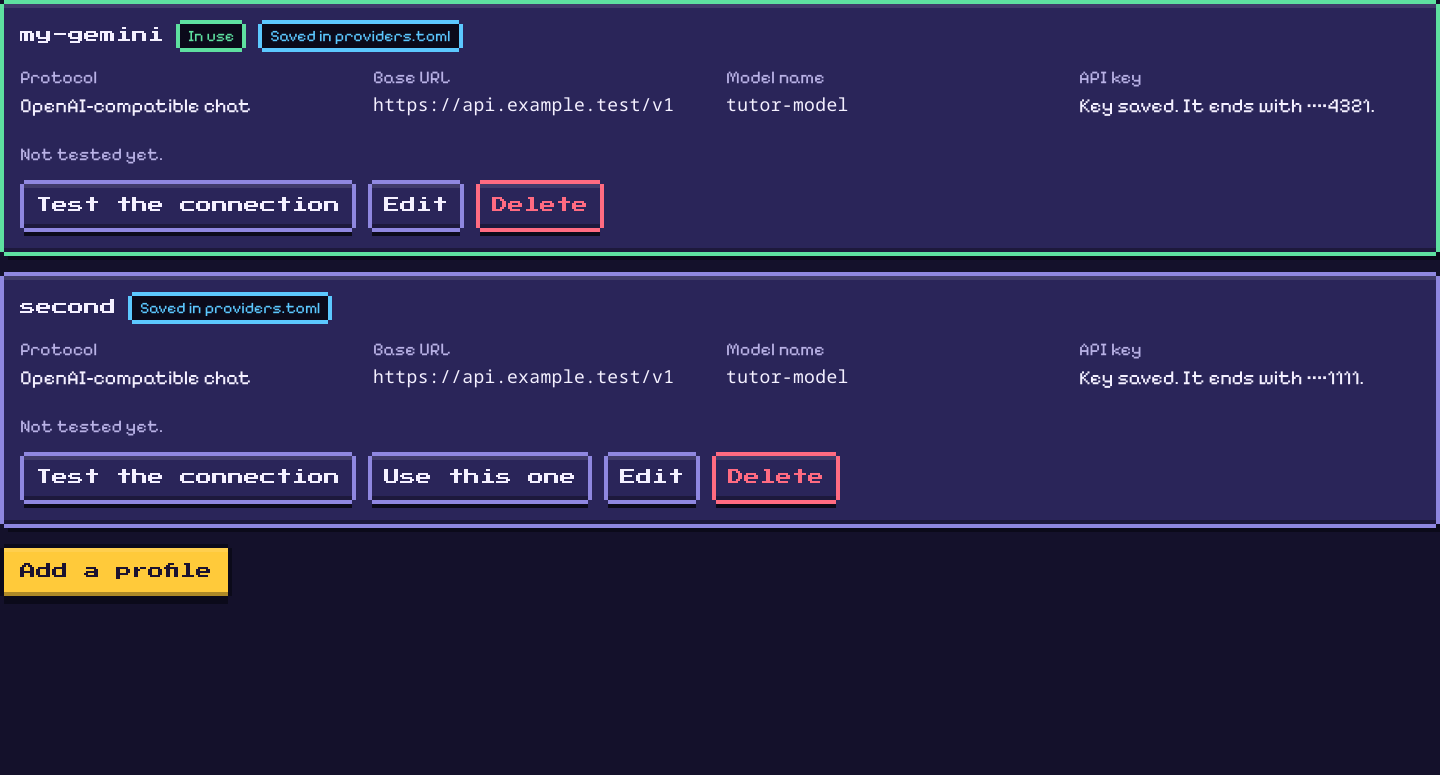
Scenario: ProviderManager › asks before deleting, and deletes only after the learner agrees
Step 1. Click the button "Delete" below "In use" → (540, 206), box [480,184,600,228]
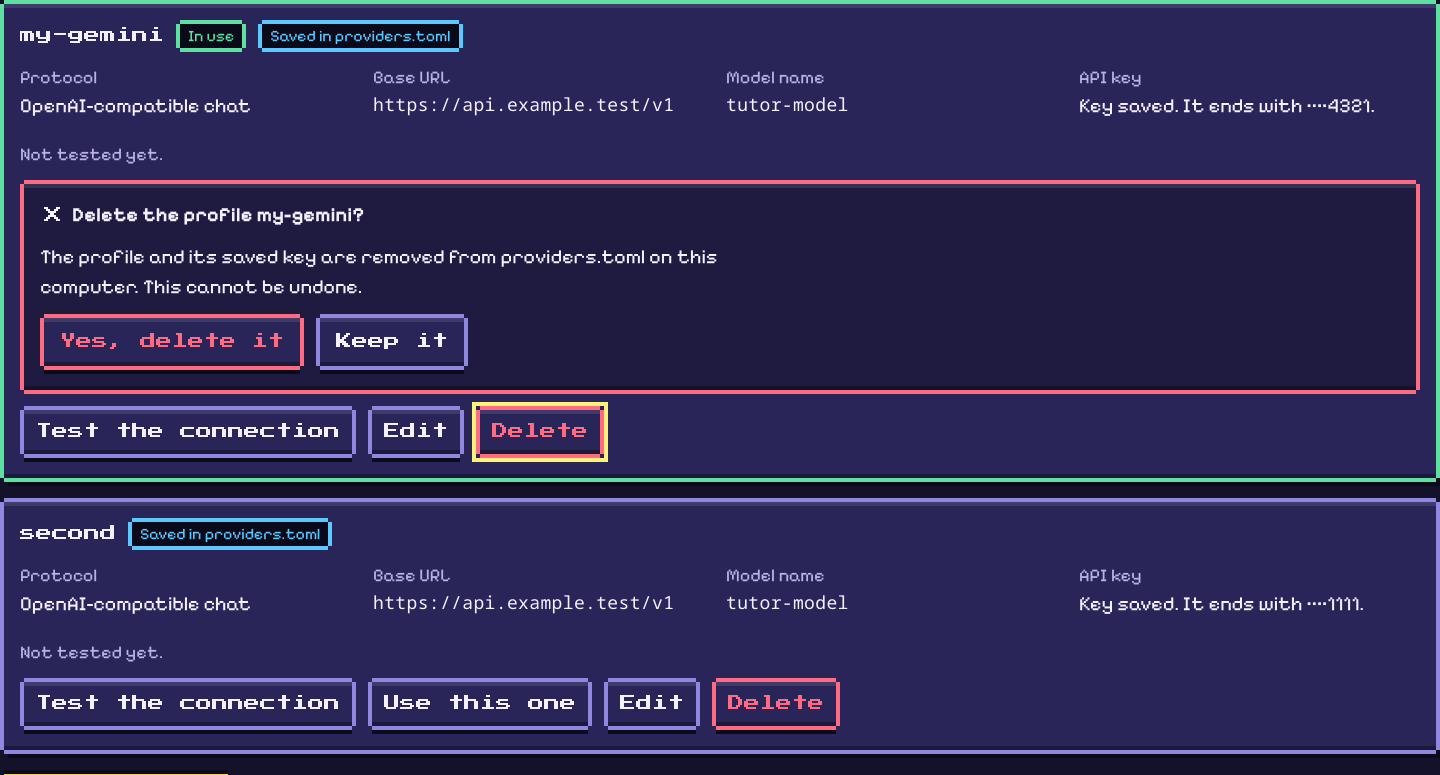
Expected: the text "Delete the profile my-gemini?" is shown, [72,200,364,230]
Step 2. Click the button "Keep it" → (392, 342), box [320,318,464,366]
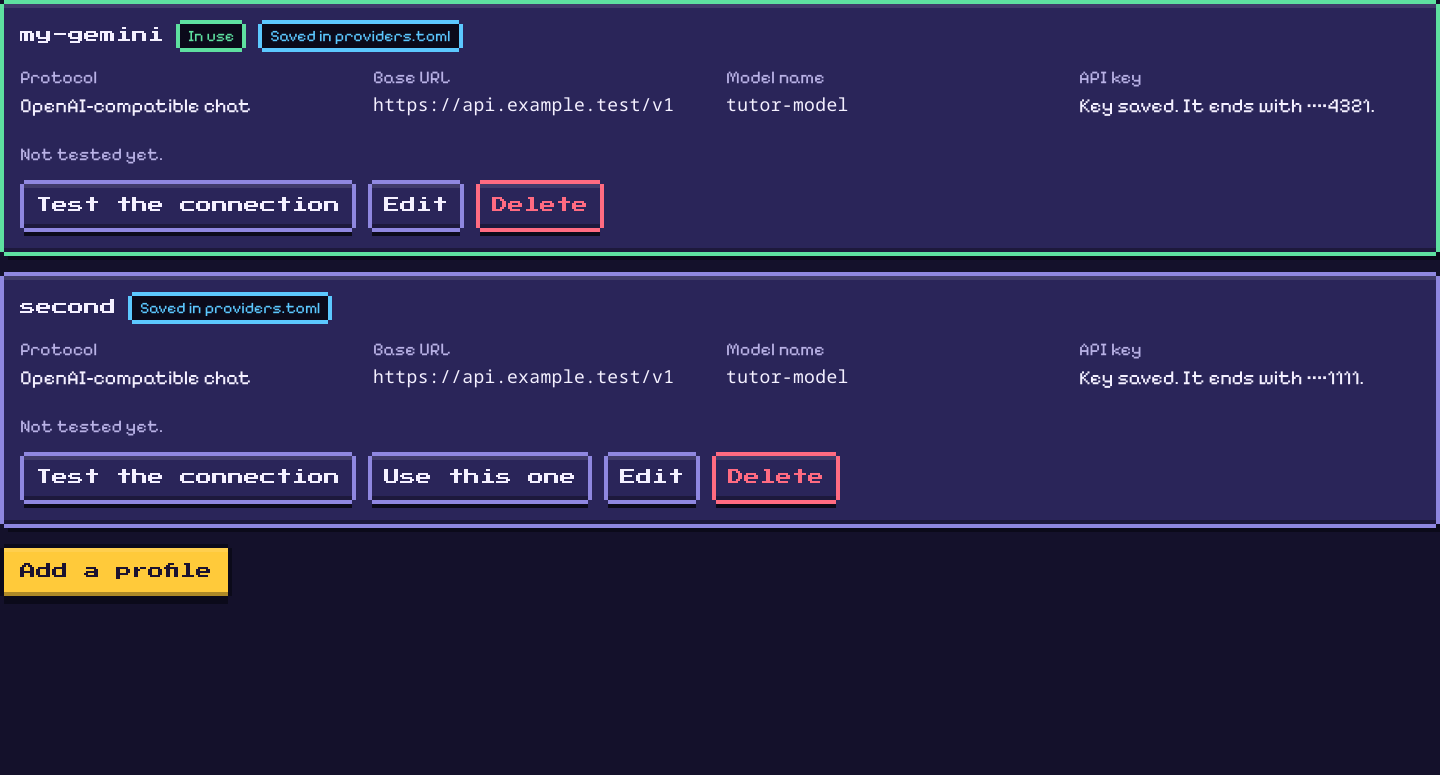
Expected: the text "Delete the profile my-gemini?" is gone
Step 3. Click the button "Delete" below "In use" → (540, 206), box [480,184,600,228]
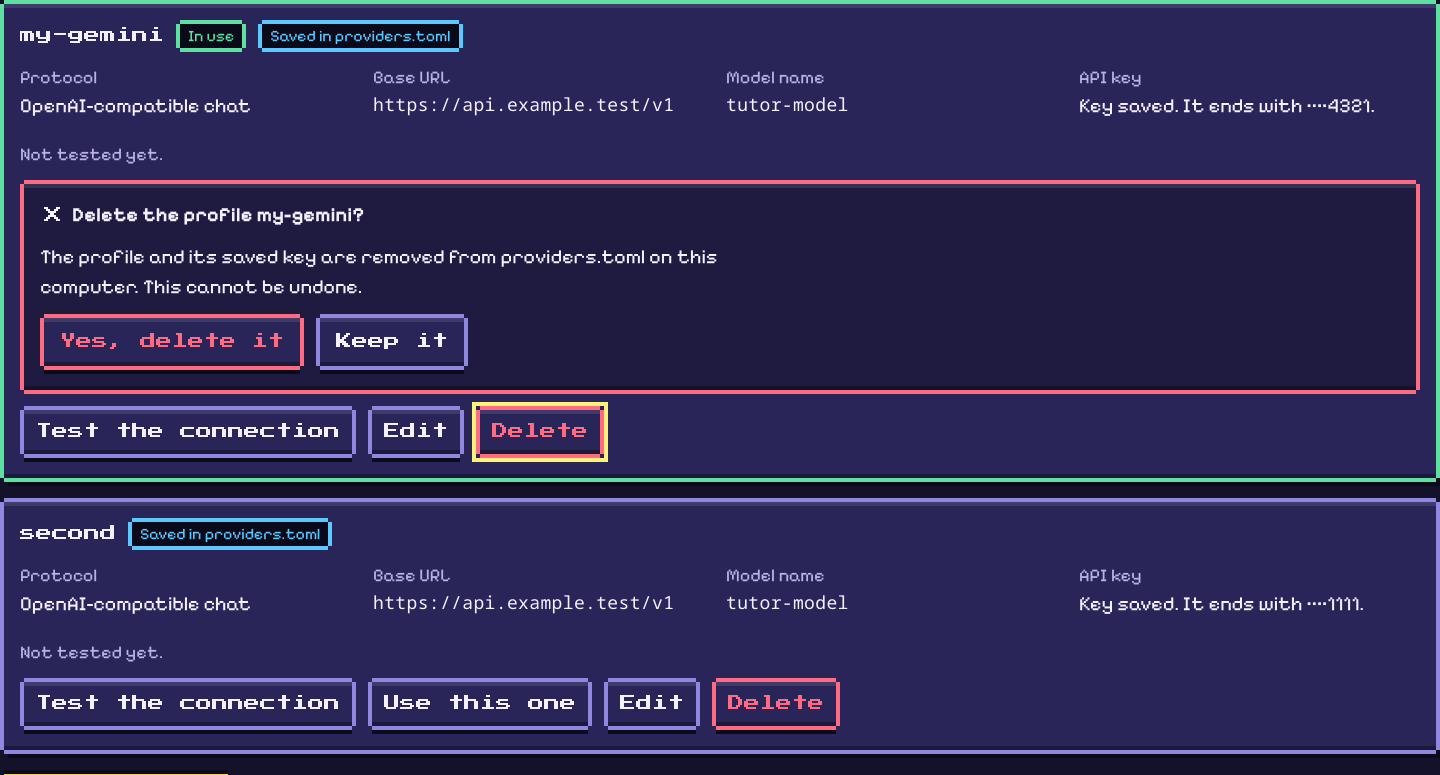
Step 4. Click the button "Yes, delete it" → (172, 342), box [44,318,300,366]
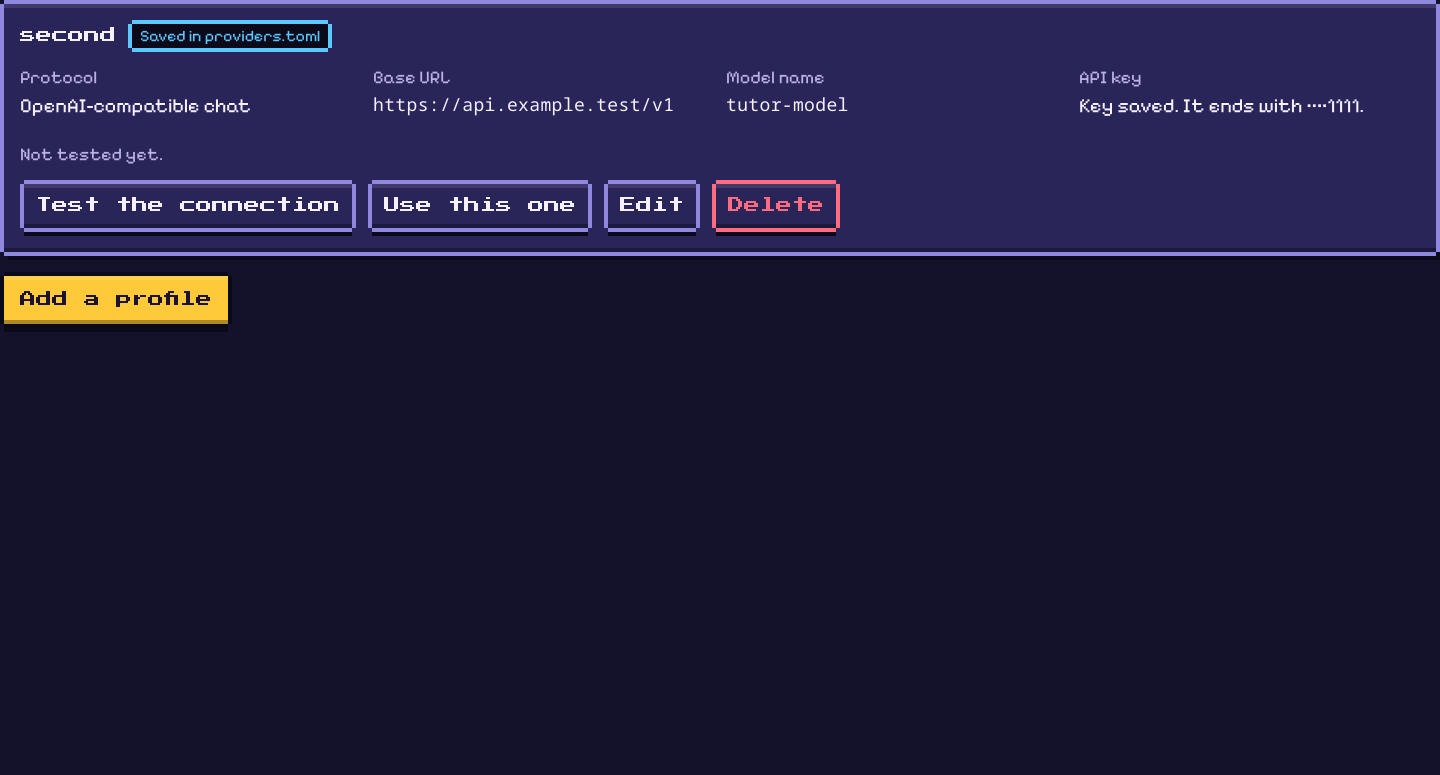
Expected: the element "second" is shown, [4,4,1436,252]
Expected: the heading "my-gemini" is gone
